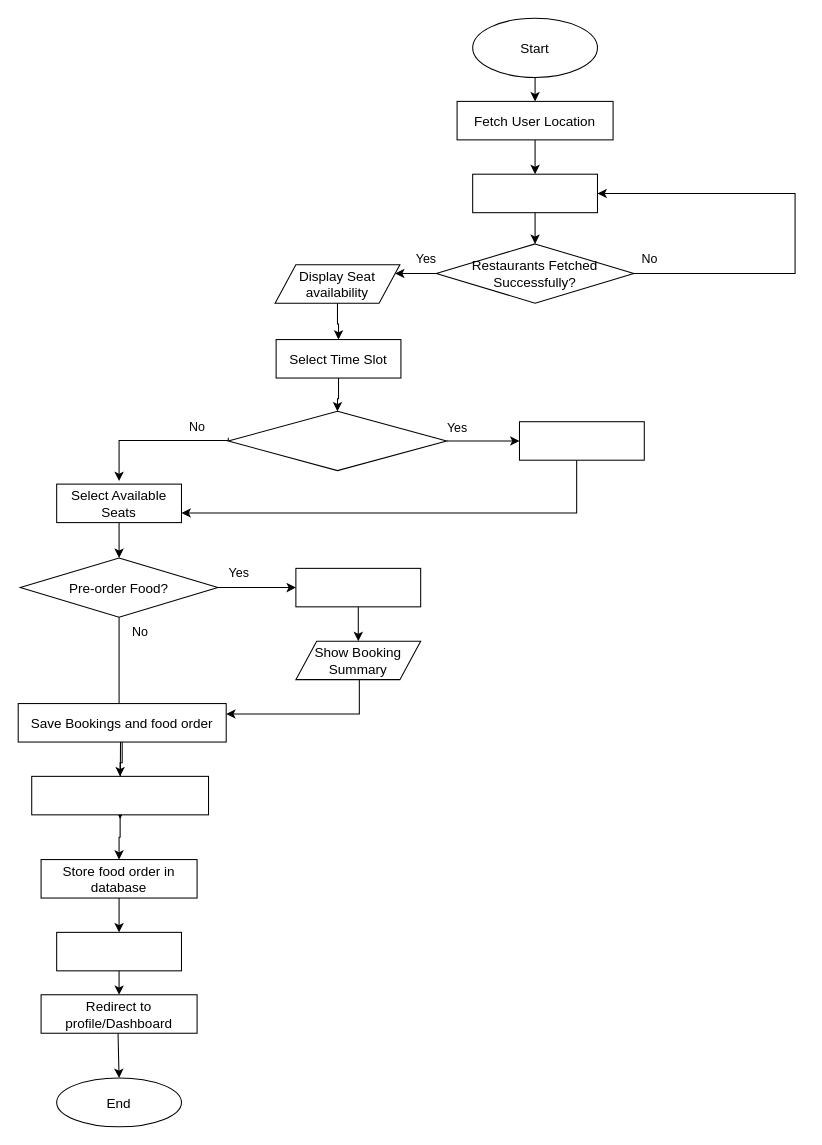
The diagram is 822 pixels wide and 1145 high, and some of its shapes have lost their labels. The shapes that lost their labels are listed below. From the top down, each one's centre as x and y in pixels, then its label:
point 534,193: Fetch Nearby Restaurants
point 337,440: Slot marked as Non-Peak?
point 581,440: Apply discounts
point 358,587: Enable Food Selection
point 120,795: Send Confirmation mail
point 118,951: Update
